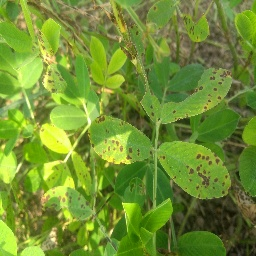GroundNut_Leaf: (157, 140, 232, 201), (157, 66, 233, 124), (87, 113, 153, 165), (121, 198, 172, 252), (43, 62, 87, 103), (174, 230, 227, 256), (62, 186, 93, 223), (1, 21, 32, 55), (239, 144, 256, 202), (49, 104, 86, 129), (115, 166, 147, 194), (41, 17, 61, 58), (182, 15, 211, 42), (146, 1, 176, 27), (17, 59, 41, 90), (236, 9, 255, 47), (42, 131, 73, 154), (1, 215, 18, 255), (89, 35, 107, 70), (1, 149, 16, 183), (111, 45, 129, 73), (105, 74, 125, 90)
